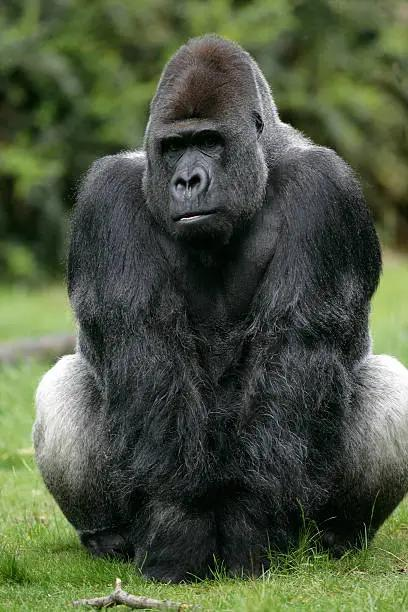gorille_Autres: (17, 14, 408, 591)
